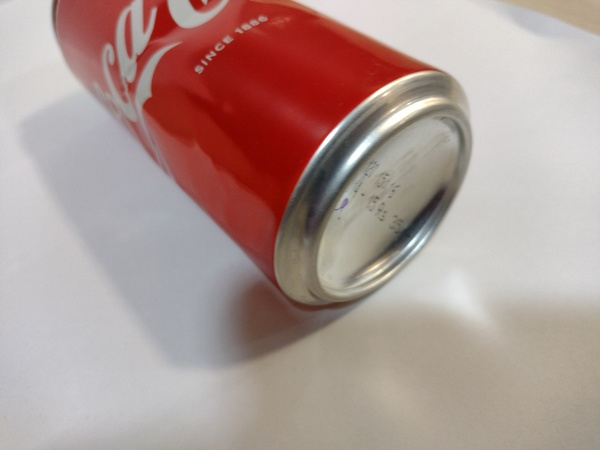can: (45, 1, 478, 315)
